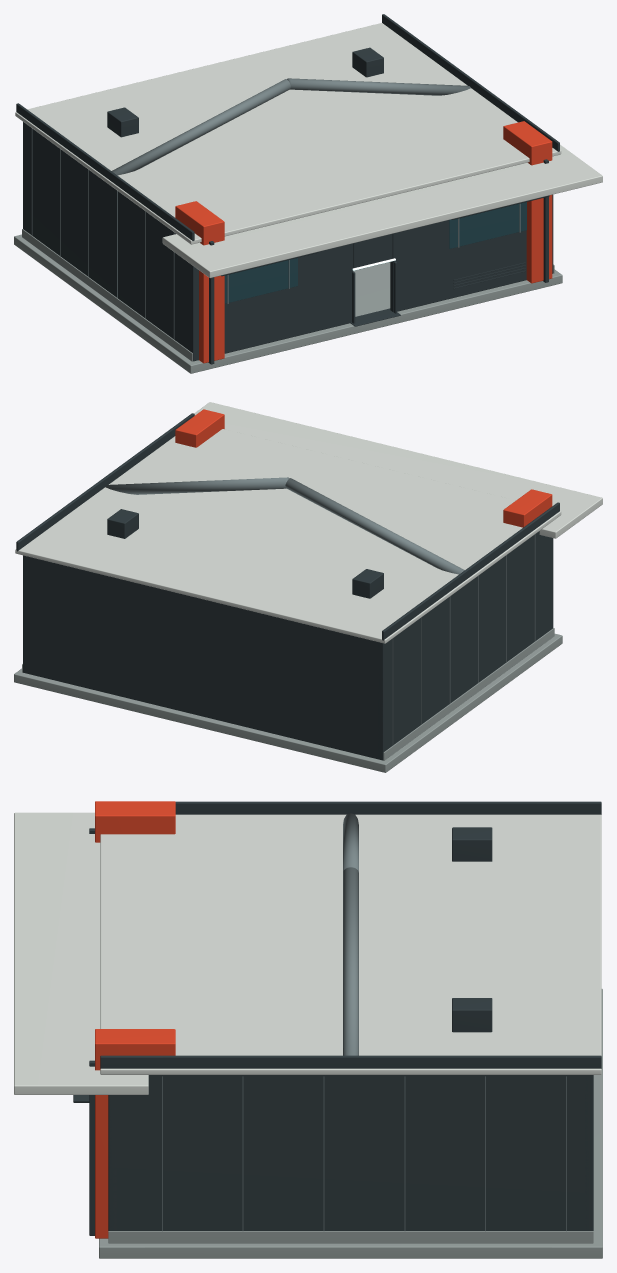
File: hangar.glb
3 renders of one model, top to bottom at view 1: azimuth 30°, elevation 25°; view 2: azimuth 150°, elevation 25°; view 3: azimuth 270°, elevation 25°, orthographic. The views are drawn at different scales.
Visible parts, largest first — view 1: hangar; view 2: hangar; view 3: hangar.
Part boxes in pixels (box(x1,y1,x2,y2)): hangar: box(14, 14, 602, 373); hangar: box(14, 402, 602, 772); hangar: box(14, 801, 602, 1258).
Bounding box in the file's own units: 24 × 10.79 × 21.85.
